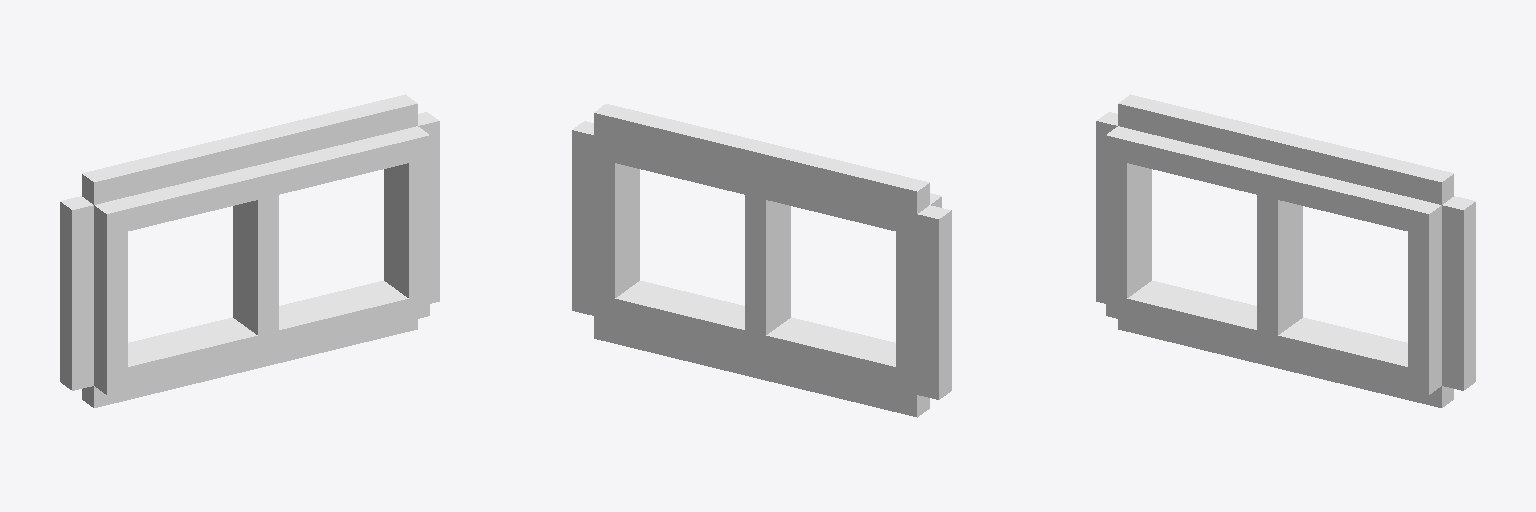
File: fenetre3.obj
3 renders of one model, left to right at view 1: azimuth 30°, elevation 25°; view 2: azimuth 150°, elevation 25°; view 3: azimuth 330°, elevation 25°, orthographic.
Parts seen in each view (by area): view 1: object 1; view 2: object 1; view 3: object 1.
Boxes of the visible parts, box(x1,y1,x2,y2) form: object 1: box(60, 94, 439, 407); object 1: box(572, 104, 951, 417); object 1: box(1096, 94, 1475, 407).
Bounding box in the file's own units: 1.7 × 1 × 0.2.